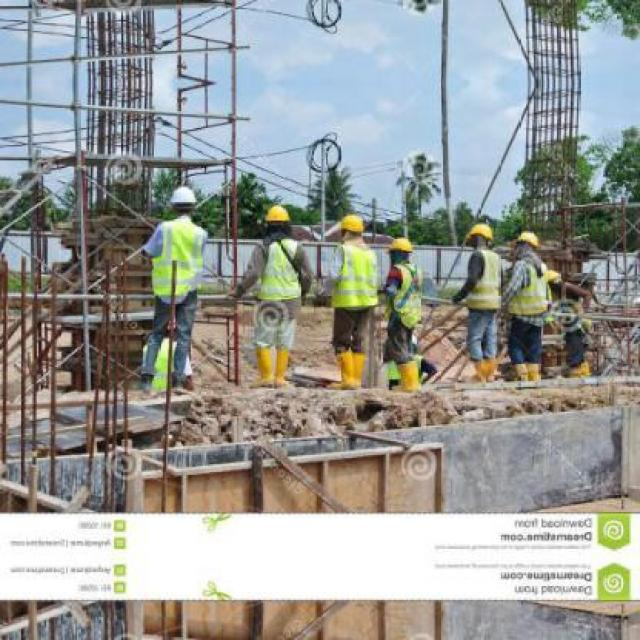Reflective-Jacket: (146, 216, 209, 308), (254, 236, 303, 307), (331, 242, 380, 310), (509, 256, 551, 318), (464, 250, 502, 311), (392, 262, 423, 329)
Safety-Helmet: (166, 180, 202, 213), (263, 202, 294, 228), (337, 213, 366, 236), (464, 221, 494, 242), (388, 234, 415, 256), (514, 227, 541, 248)
